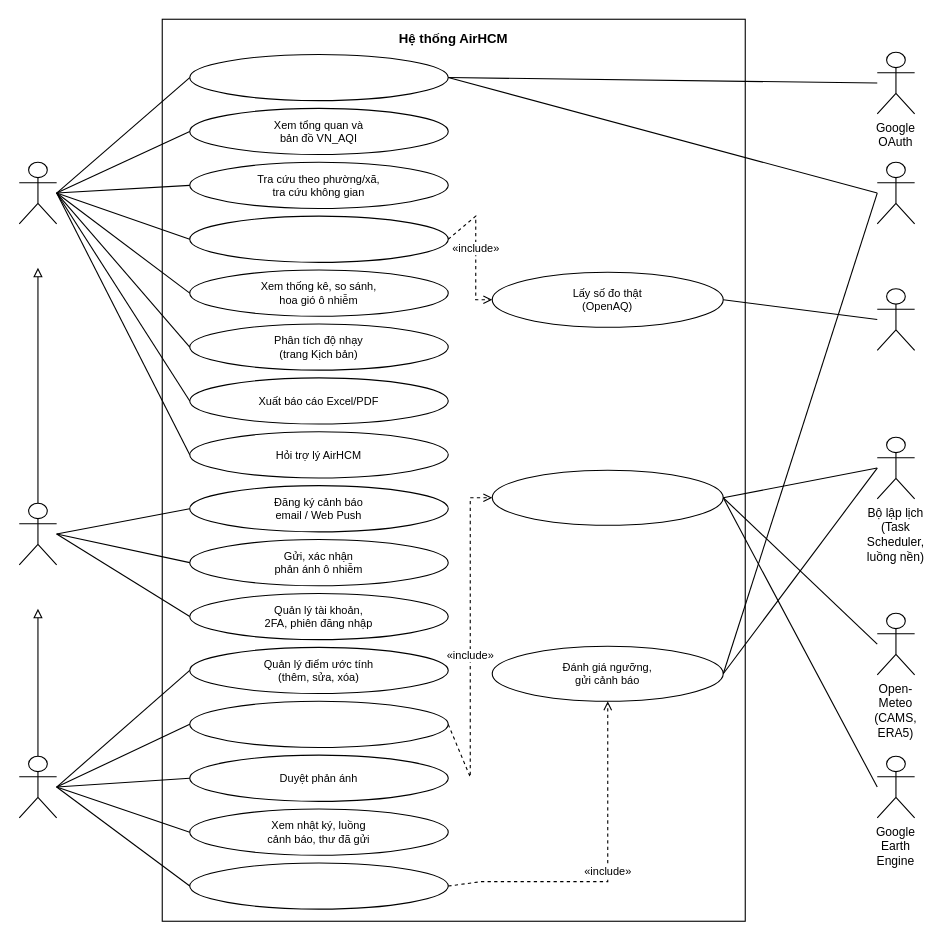
Image size: 944x941. Some labels were removed from this diagram. Here are the shapes that lost their labels. From the top down, the centre of each, then its label:
At point (318, 77): "Đăng ký, đăng nhập (OTP, Google, 2FA)".
At point (37, 192): "Khách (chưa đăng nhập)".
At point (895, 192): "Máy chủ SMTP".
At point (318, 238): "Xem dự báo theo giờ, theo ngày".
At point (895, 319): "OpenAQ".
At point (607, 497): "Đồng bộ dữ liệu hằng ngày".
At point (37, 533): "Người dùng đã đăng nhập".
At point (318, 723): "Đồng bộ thủ công, xem trạng thái dữ liệu".
At point (37, 786): "Quản trị viên".
At point (318, 885): "Gửi cảnh báo thủ công".
